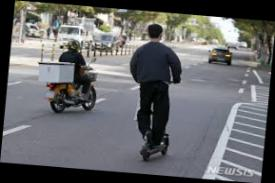nonhelmet: (118, 21, 188, 163)
